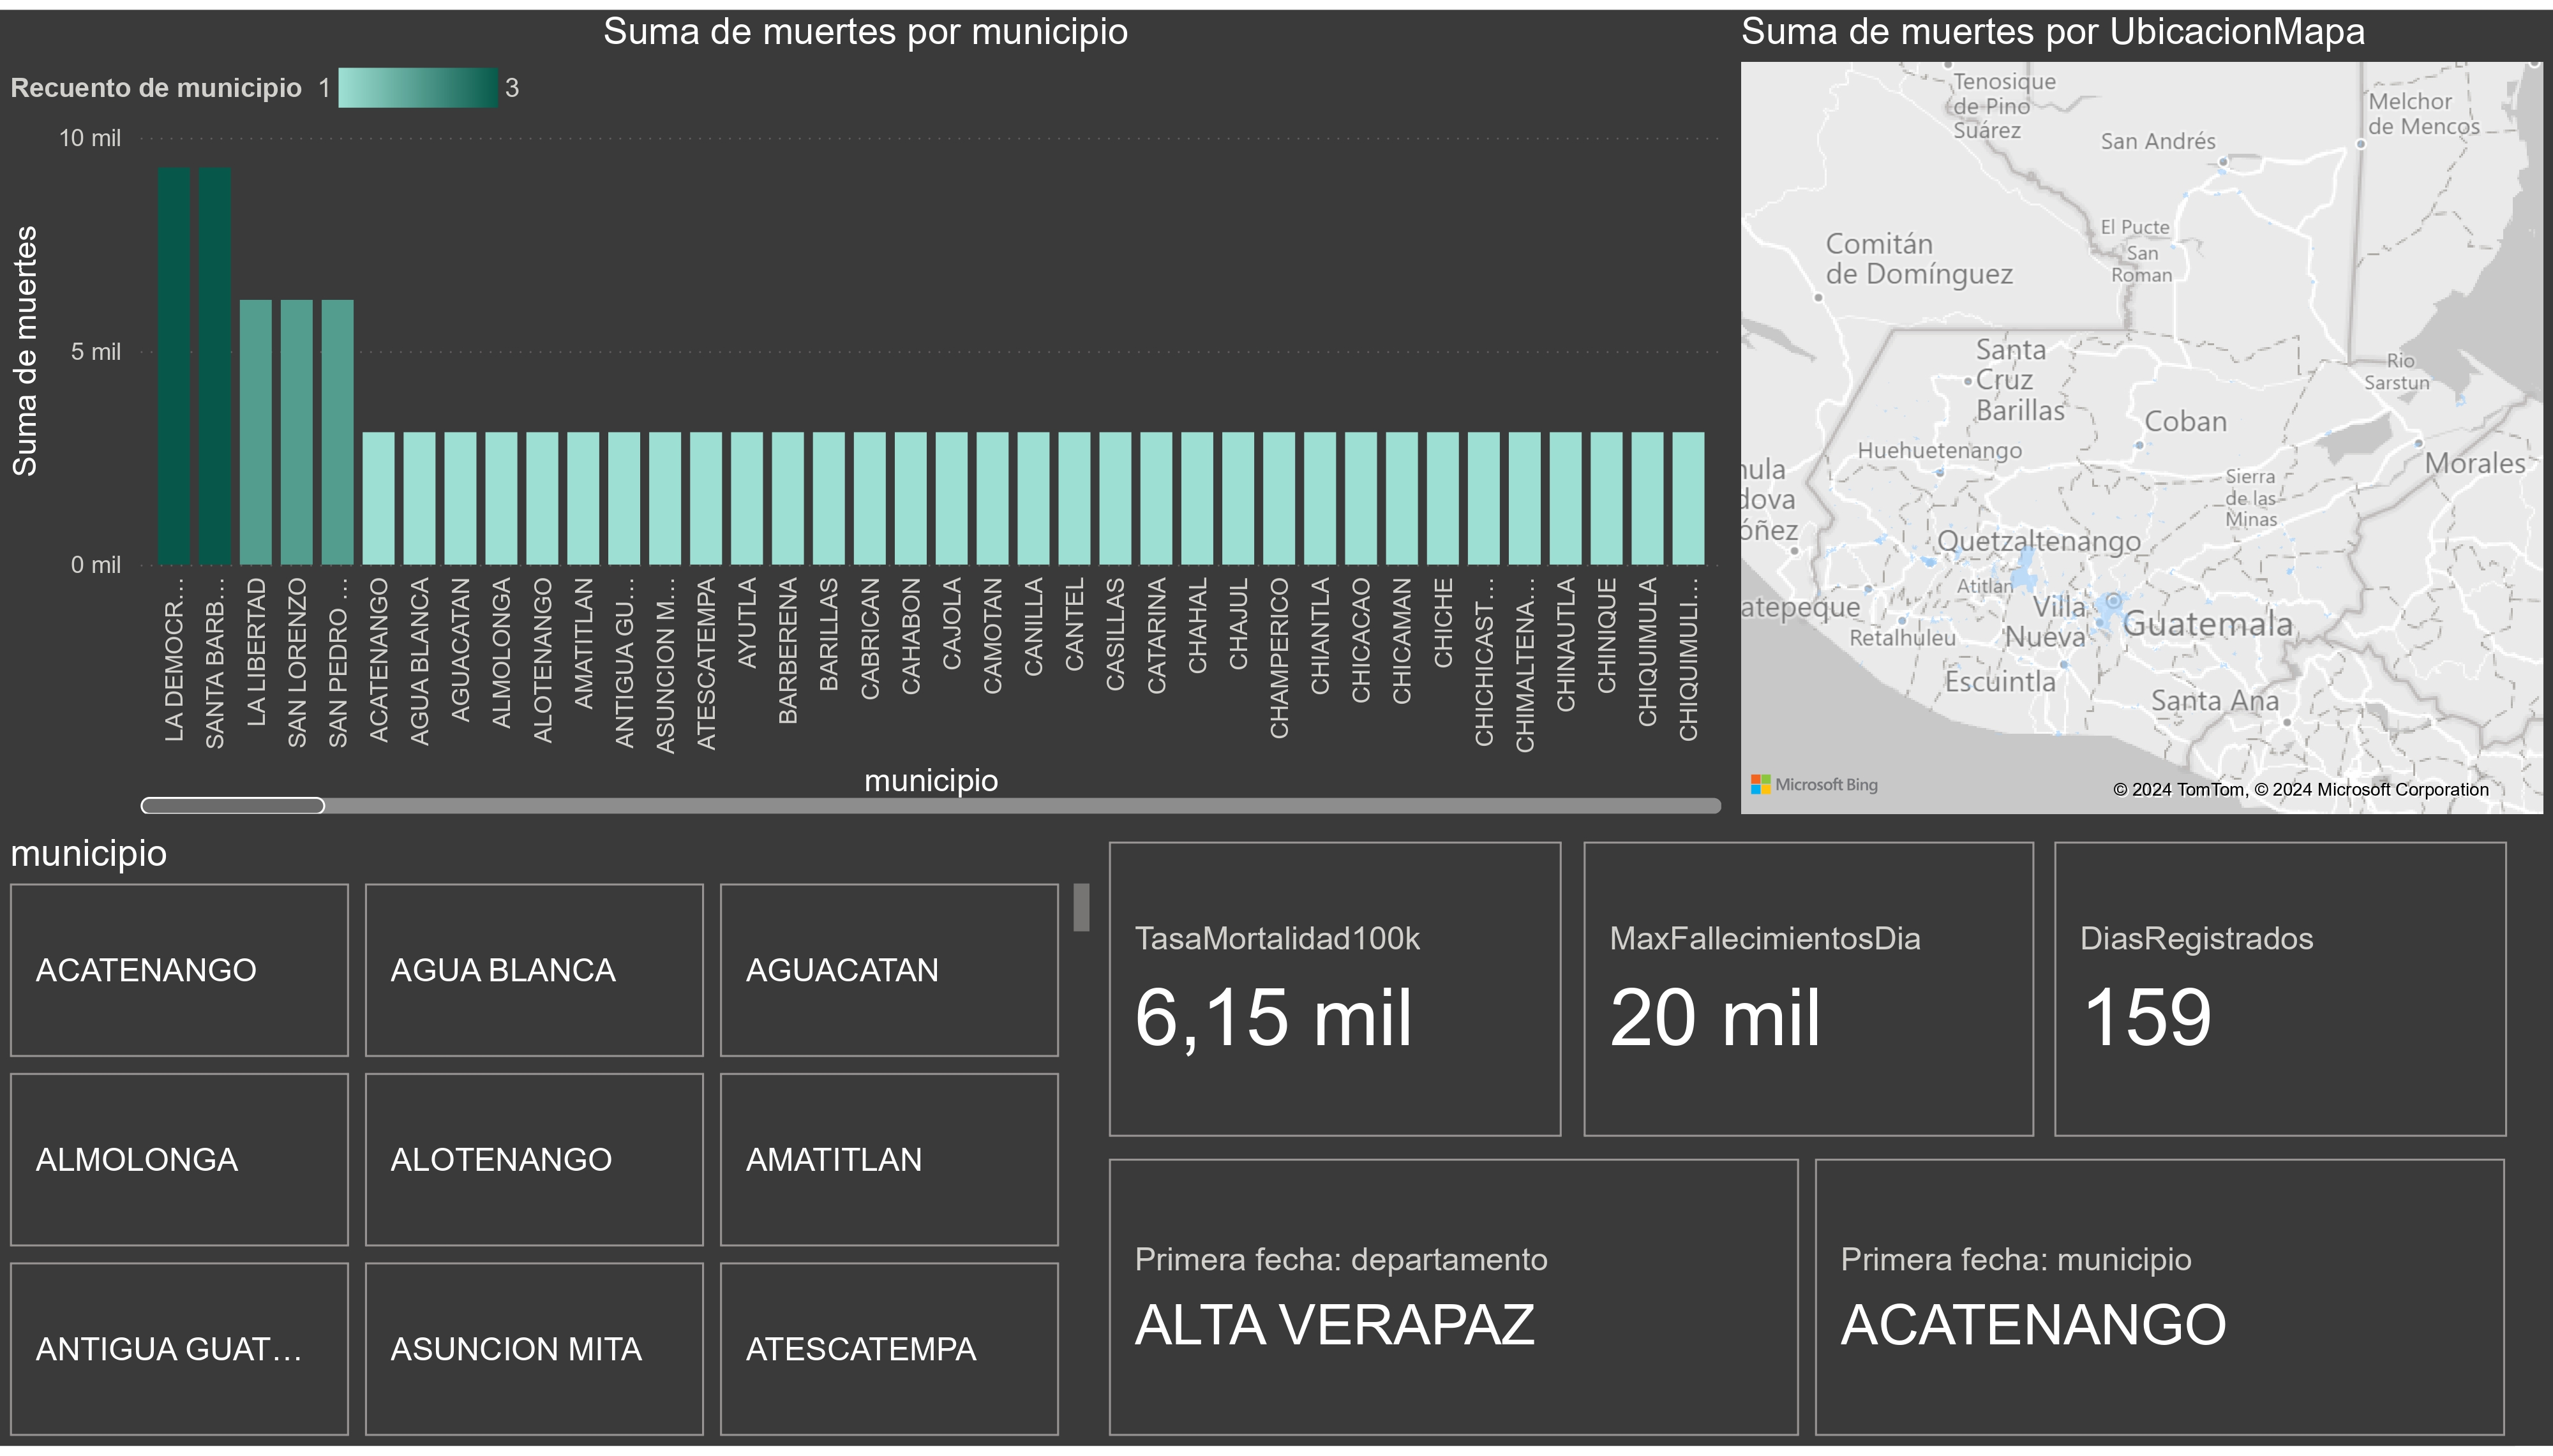

Layout of this report page (visuals, bound fields, positions):
{"tool":"powerbi","page":{"name":"Página 1","canvas":[1280,720],"ordinal":0},"visuals":[{"type":"clusteredColumnChart","fields":{"Category":["Municipio.municipio"],"Y":["Sum(DatosCovid.muertes)"]},"box":[0,0,868.2,408.4],"z":0},{"type":"filledMap","fields":{"Category":["DatosCovid.UbicacionMapa"]},"box":[868.2,0,412.1,408.4],"z":1000},{"type":"cardVisual","fields":{"Data":["DatosCovid.TasaMortalidad100k"]},"box":[551.5,412.1,237.2,159],"z":2000},{"type":"cardVisual","fields":{"Data":["DatosCovid.MaxFallecimientosDia"]},"box":[788.7,412.1,236,159],"z":3000},{"type":"cardVisual","fields":{"Data":["DatosCovid.DiasRegistrados"]},"box":[1024.7,412.1,237.2,159],"z":4000},{"type":"cardVisual","fields":{"Data":["Min(Departamento.departamento)","Min(Municipio.municipio)"]},"box":[551.5,571.1,710.5,149.2],"z":5000},{"type":"advancedSlicerVisual","fields":{"Values":["Municipio.municipio"]},"box":[0,412.1,551.5,308.2],"z":6000}]}

Visuals, with their boxes in screenshot pixels (x1, y1, x2, y2), scaled from the page's 1280x720 canvas onto the 2553x1456 screenshot:
clusteredColumnChart - Municipio.municipio x Sum(DatosCovid.muertes): {"x1": 0, "y1": 0, "x2": 1732, "y2": 826}
filledMap - DatosCovid.UbicacionMapa: {"x1": 1732, "y1": 0, "x2": 2552, "y2": 826}
cardVisual - DatosCovid.TasaMortalidad100k: {"x1": 1100, "y1": 833, "x2": 1573, "y2": 1155}
cardVisual - DatosCovid.MaxFallecimientosDia: {"x1": 1573, "y1": 833, "x2": 2044, "y2": 1155}
cardVisual - DatosCovid.DiasRegistrados: {"x1": 2044, "y1": 833, "x2": 2517, "y2": 1155}
cardVisual - Min(Departamento.departamento) x Min(Municipio.municipio): {"x1": 1100, "y1": 1155, "x2": 2517, "y2": 1455}
advancedSlicerVisual - Municipio.municipio: {"x1": 0, "y1": 833, "x2": 1100, "y2": 1455}
